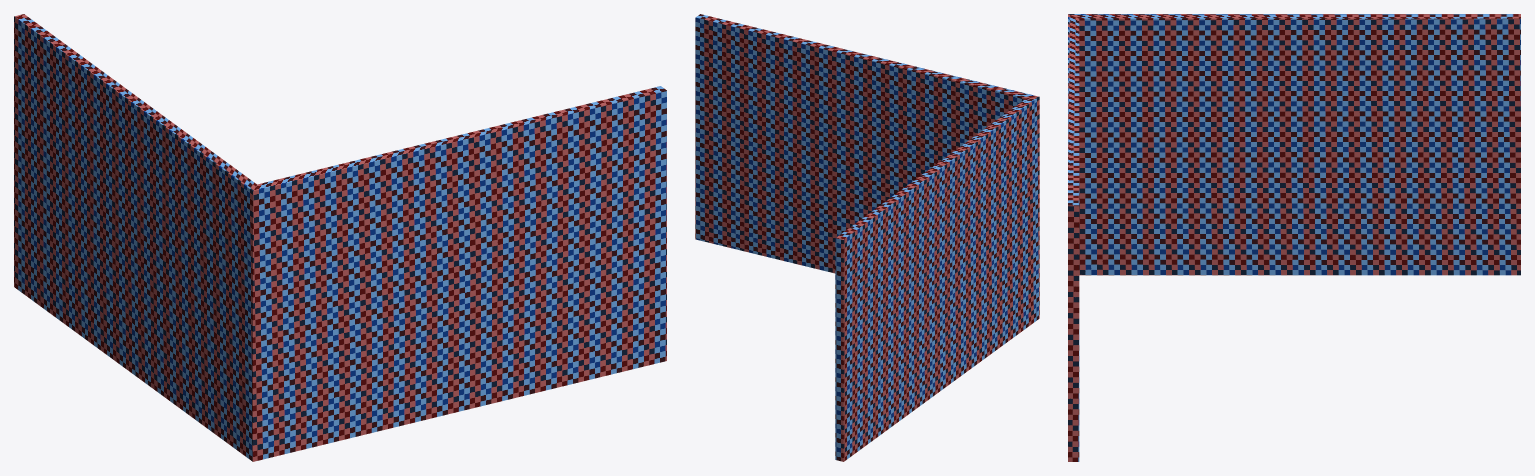
The model's file is Smallwall_turn_02.fbx.
The picture shows the model from 3 angles, left to right: view 1: azimuth 30°, elevation 25°; view 2: azimuth 150°, elevation 25°; view 3: azimuth 270°, elevation 25°; orthographic projection. The views are drawn at different scales.
Visible parts, largest first — view 1: Smallwall_turn_02; view 2: Smallwall_turn_02; view 3: Smallwall_turn_02.
Boxes of the visible parts, x1=… form: Smallwall_turn_02: x1=14, y1=14, x2=666, y2=461; Smallwall_turn_02: x1=695, y1=14, x2=1039, y2=461; Smallwall_turn_02: x1=1068, y1=14, x2=1520, y2=461.
Bounding box in the file's own units: 400 × 250 × 400.
Materials: 1 (1 with a texture image).
